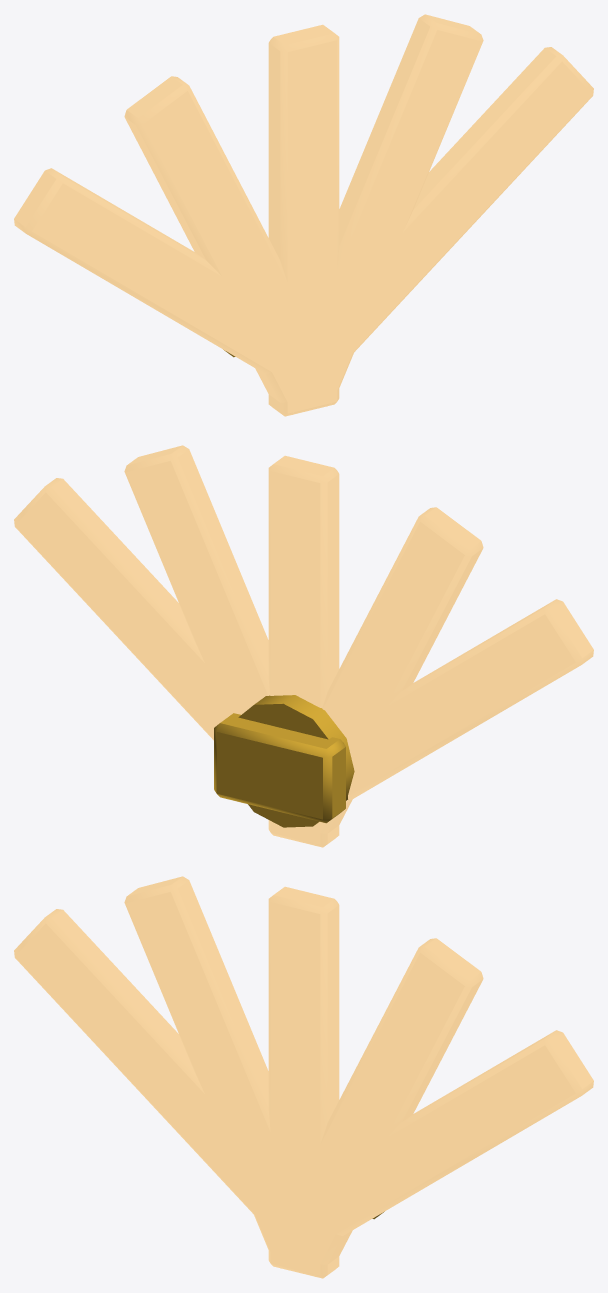
File: sconce_art_deco_fan.glb
The picture shows the model from 3 angles, top to bottom: view 1: azimuth 30°, elevation 25°; view 2: azimuth 150°, elevation 25°; view 3: azimuth 330°, elevation 25°; orthographic projection.
Visible parts, largest first — view 1: sconce_art_deco_fan; view 2: sconce_art_deco_fan; view 3: sconce_art_deco_fan.
Boxes of the visible parts, box(x1,y1,x2,y2) form: sconce_art_deco_fan: box(14, 14, 593, 416); sconce_art_deco_fan: box(14, 445, 593, 847); sconce_art_deco_fan: box(14, 876, 593, 1278).
Size of the model in its own units: 0.4804 by 0.3002 by 0.0625.
